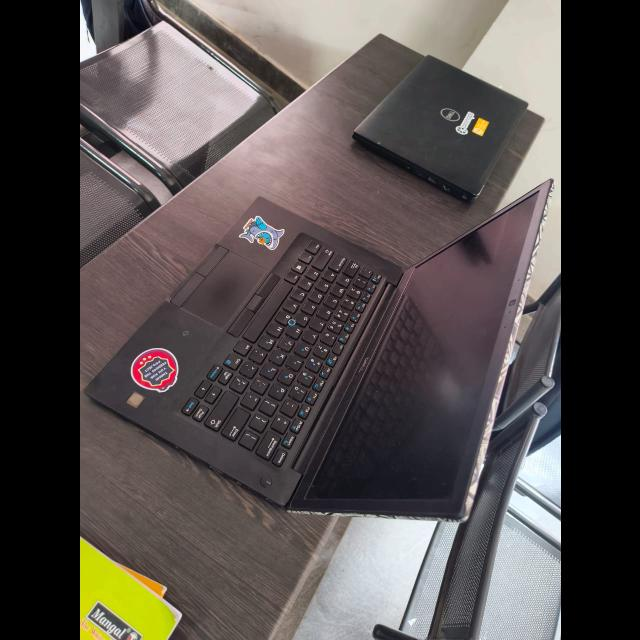laptop: (79, 176, 561, 512)
